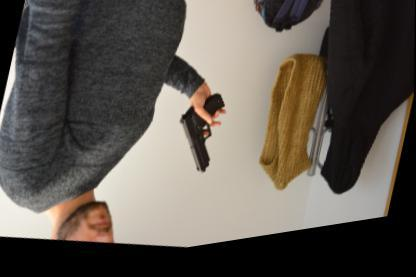pistol: (168, 92, 228, 184)
